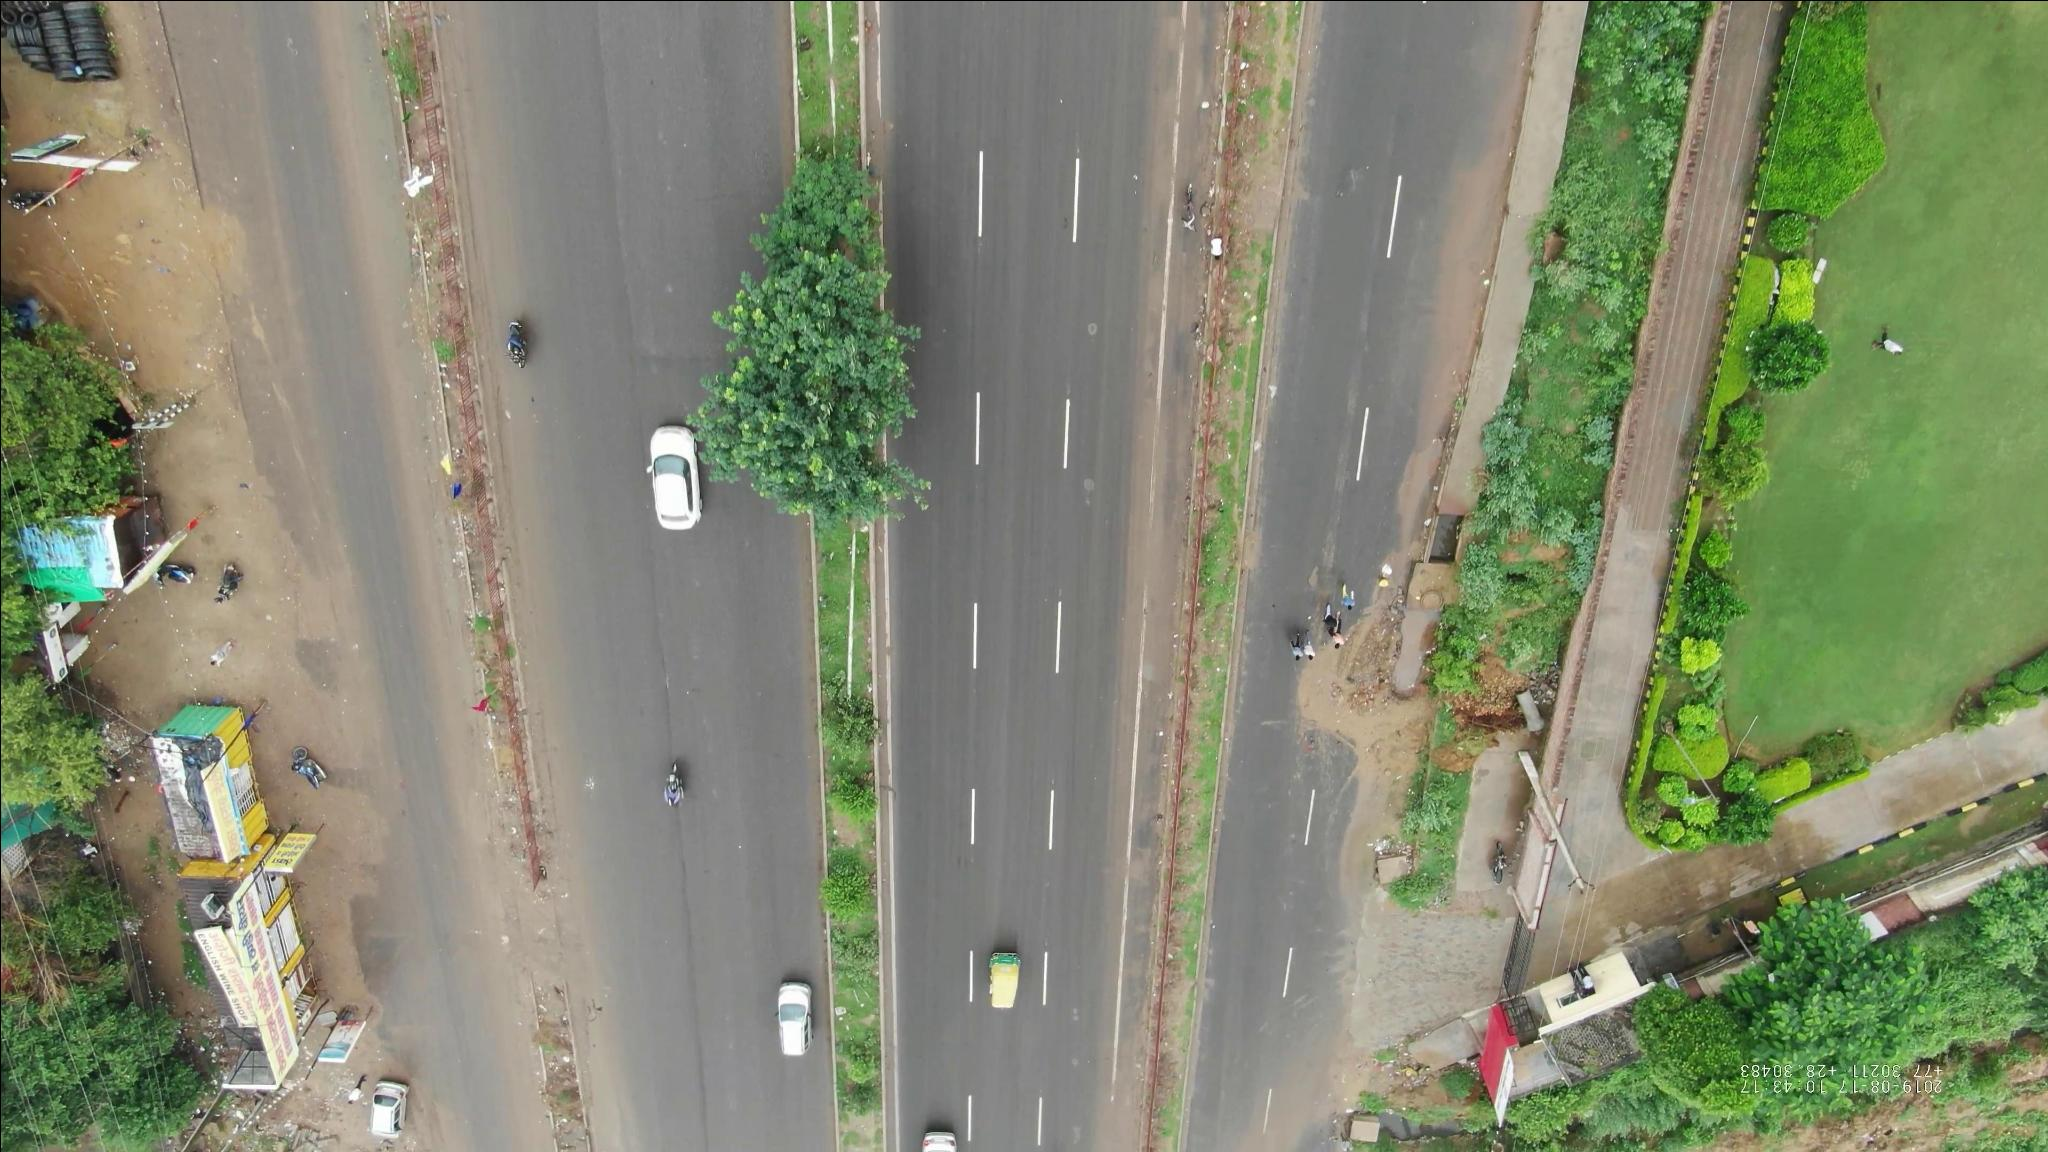Muddy_road: (319, 20, 398, 214), (468, 781, 543, 973), (371, 279, 440, 481), (414, 535, 477, 743)
Potholes: (1286, 921, 1362, 1030)
